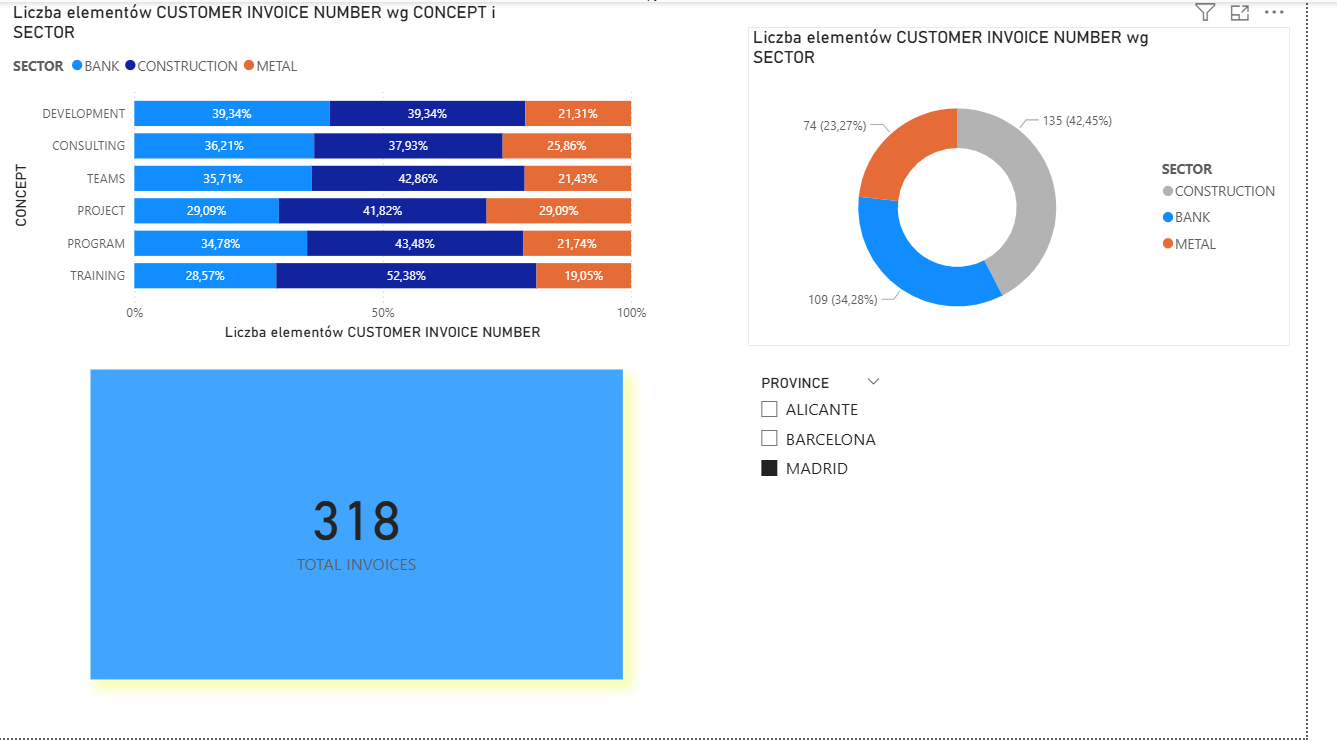

Layout of this report page (visuals, bound fields, positions):
{"tool":"powerbi","page":{"name":"WYKRESY","canvas":[1280,720],"ordinal":1},"visuals":[{"type":"hundredPercentStackedBarChart","fields":{"Category":["T_INVOICES.CONCEPT"],"Y":["CountNonNull(T_INVOICES.CUSTOMER INVOICE NUMBER)"],"Series":["T_INVOICES.SECTOR"]},"box":[9.8,0,629.8,336.3],"z":0},{"type":"donutChart","fields":{"Category":["T_INVOICES.SECTOR"],"Y":["CountNonNull(T_INVOICES.CUSTOMER INVOICE NUMBER)"]},"box":[733.7,24.5,530.7,311.8],"z":1},{"type":"card","fields":{"Values":["CountNonNull(T_INVOICES.CUSTOMER INVOICE NUMBER)"]},"box":[90.5,359.5,520.9,303.3],"z":2},{"type":"slicer","fields":{"Values":["T_INVOICES.PROVINCE"]},"box":[733.7,359.5,141.8,129.6],"z":3}]}

Visuals, with their boxes in screenshot pixels (x1, y1, x2, y2), scaled from the page's 1280x720 canvas onto the 1337x742 screenshot:
hundredPercentStackedBarChart - T_INVOICES.CONCEPT x CountNonNull(T_INVOICES.CUSTOMER INVOICE NUMBER): bbox(10, 0, 668, 347)
donutChart - T_INVOICES.SECTOR x CountNonNull(T_INVOICES.CUSTOMER INVOICE NUMBER): bbox(766, 25, 1321, 347)
card - CountNonNull(T_INVOICES.CUSTOMER INVOICE NUMBER): bbox(95, 370, 639, 683)
slicer - T_INVOICES.PROVINCE: bbox(766, 370, 914, 504)
